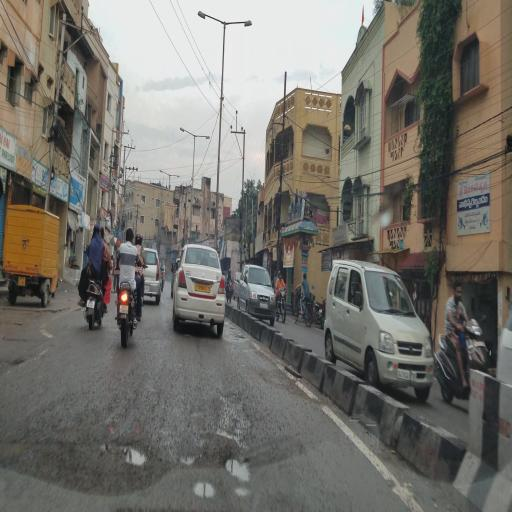street_light_0: (222, 14, 260, 46), (192, 6, 222, 40), (196, 120, 214, 148), (174, 118, 192, 144), (152, 162, 172, 184), (169, 162, 182, 186)
